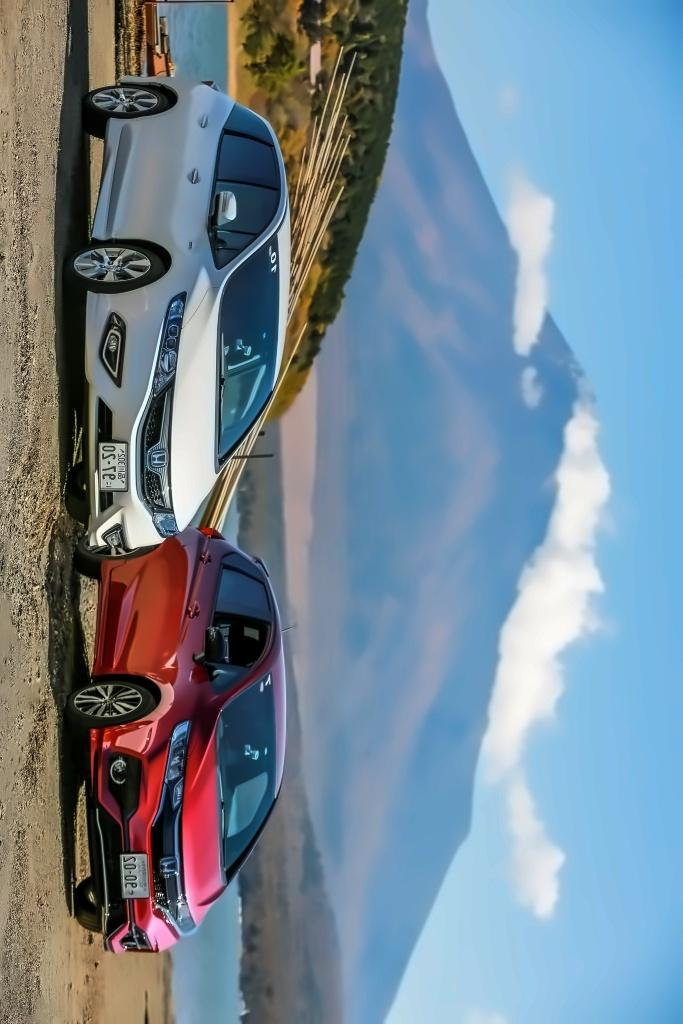Car hood: (166, 283, 221, 535), (179, 702, 225, 930)
Driver-s door - -F-R-: (88, 600, 287, 686), (102, 168, 291, 250)
Fender - -F-R-: (131, 220, 224, 324), (136, 668, 232, 744)
Front bumper: (77, 705, 178, 965), (84, 278, 166, 561)
Headlight - -L-: (155, 901, 201, 941), (152, 509, 182, 541)
Headlight - -R-: (150, 290, 187, 406), (152, 719, 191, 828)
Passenger-s door - -R-R-: (118, 111, 291, 193), (103, 546, 279, 618)
Side bumper - -R-: (87, 107, 143, 246), (88, 558, 137, 683)
Side mirror - -R-: (190, 622, 229, 672), (211, 190, 241, 235)
